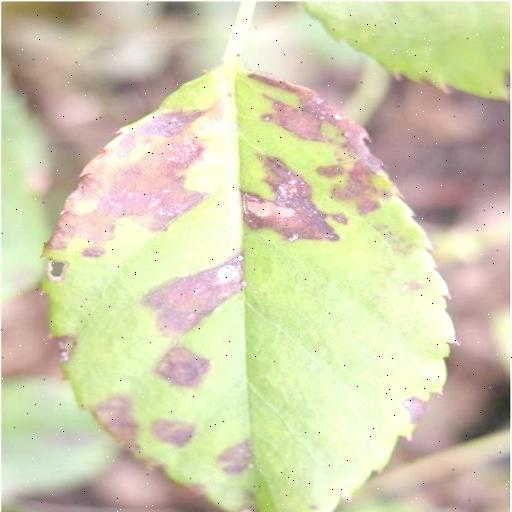downy_mildew: (45, 68, 452, 511)
